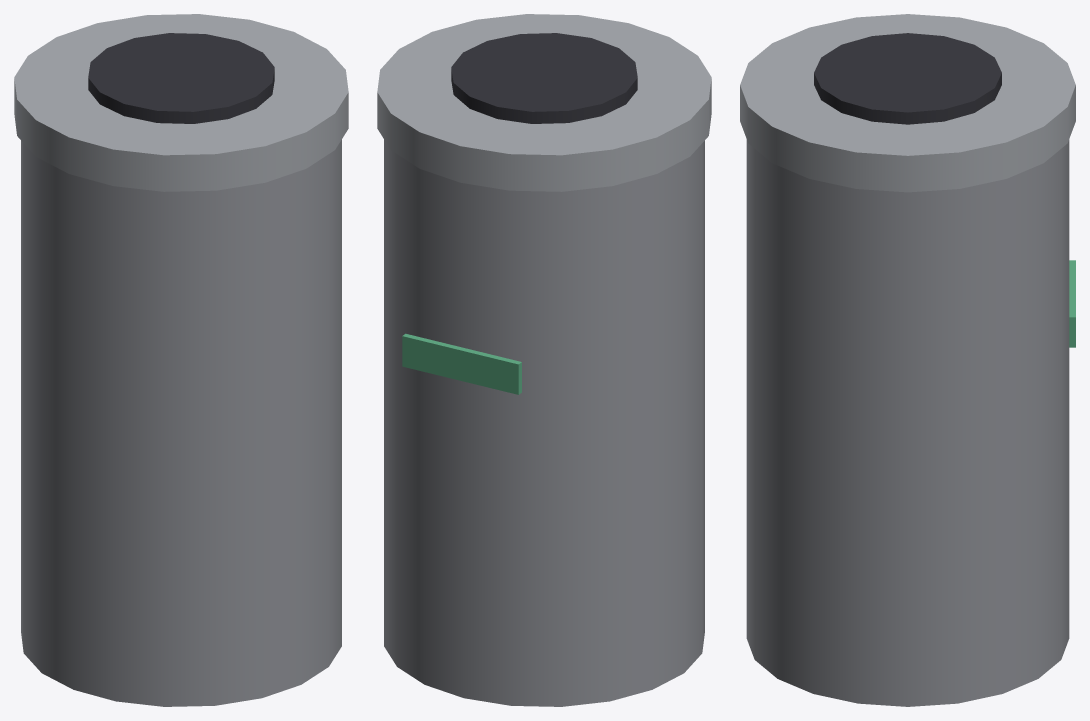
File: trash_bin.glb
3 views of the same model, side by side, from view 1: azimuth 30°, elevation 25°; view 2: azimuth 150°, elevation 25°; view 3: azimuth 270°, elevation 25° (orthographic).
Parts seen in each view (by area): view 1: trash_bin; view 2: trash_bin; view 3: trash_bin.
Part boxes in pixels (bbox=[...]): trash_bin: bbox=[14, 14, 348, 706]; trash_bin: bbox=[377, 14, 711, 706]; trash_bin: bbox=[740, 14, 1075, 706].
Bounding box in the file's own units: 0.5 × 0.93 × 0.5.
